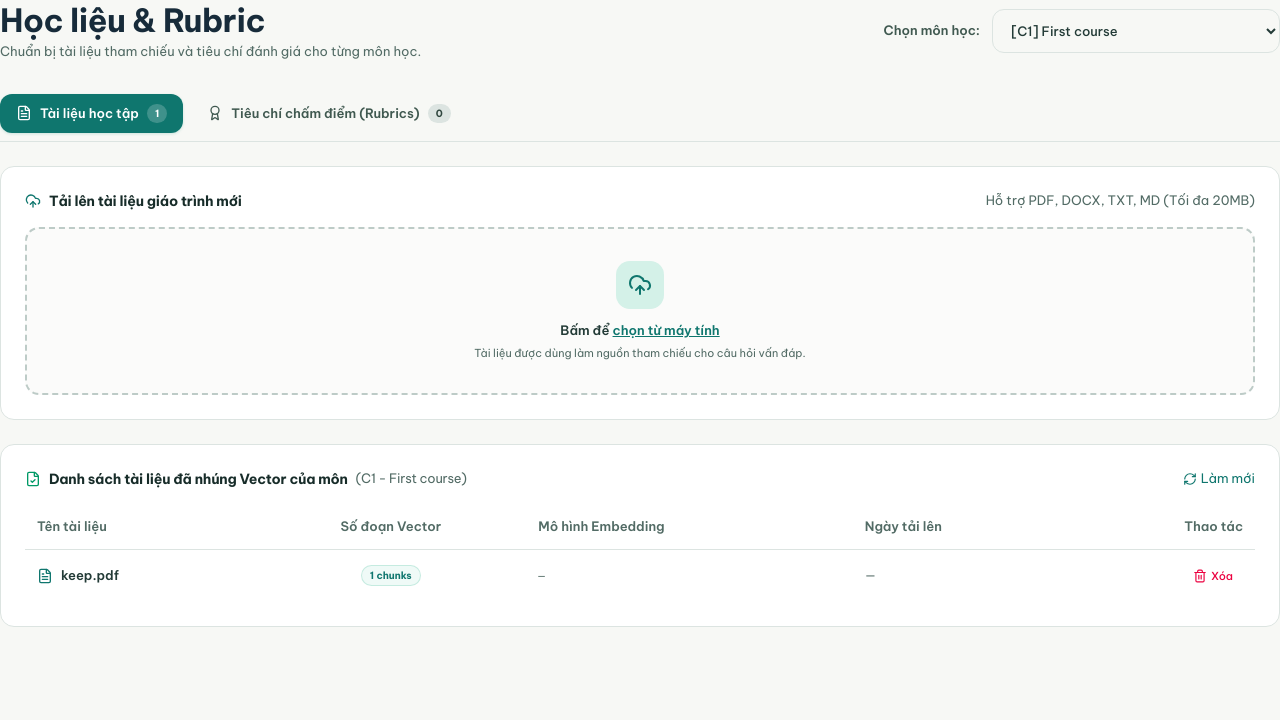
Test: materials exceptions › requires confirmation before deleting a document and retains it on API failure
The image size is (1280, 720).
expect the text "keep.pdf" is shown: met, box [61, 566, 119, 586]
Click the button "Xóa": (1213,576) [1183, 562, 1243, 590]
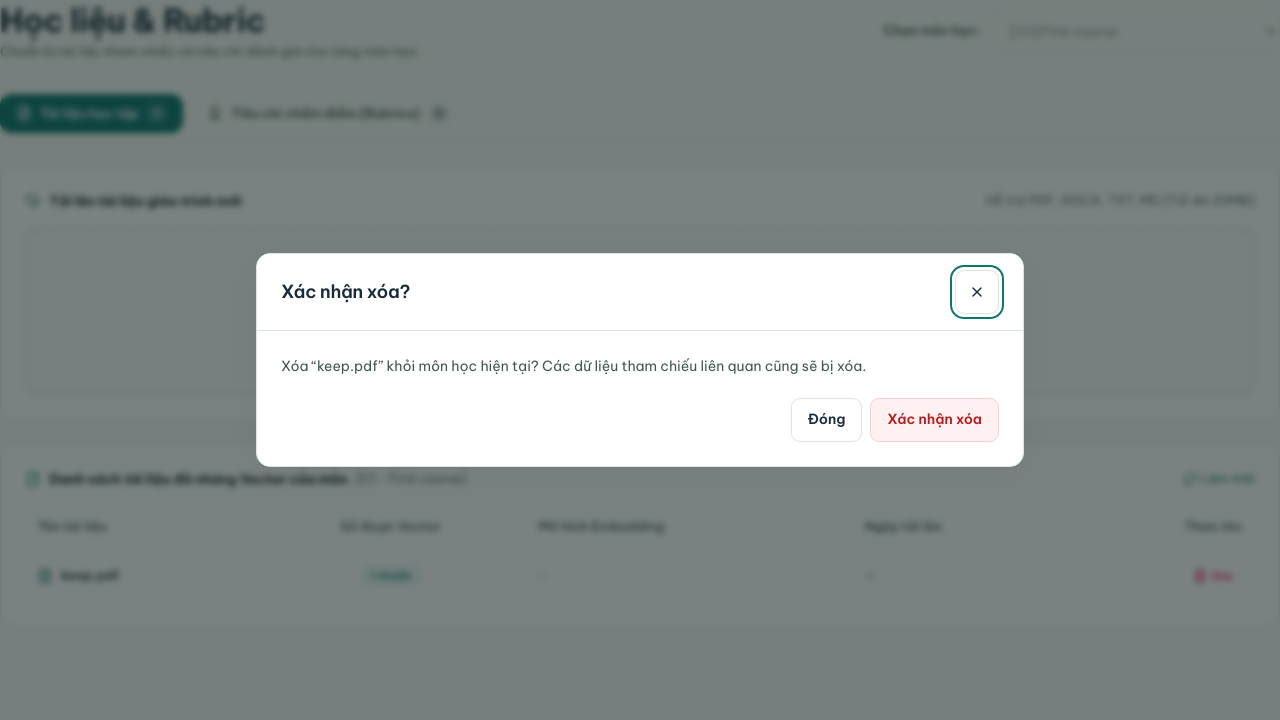
Click the button "Xác nhận xóa": (935,420) [870, 398, 999, 442]
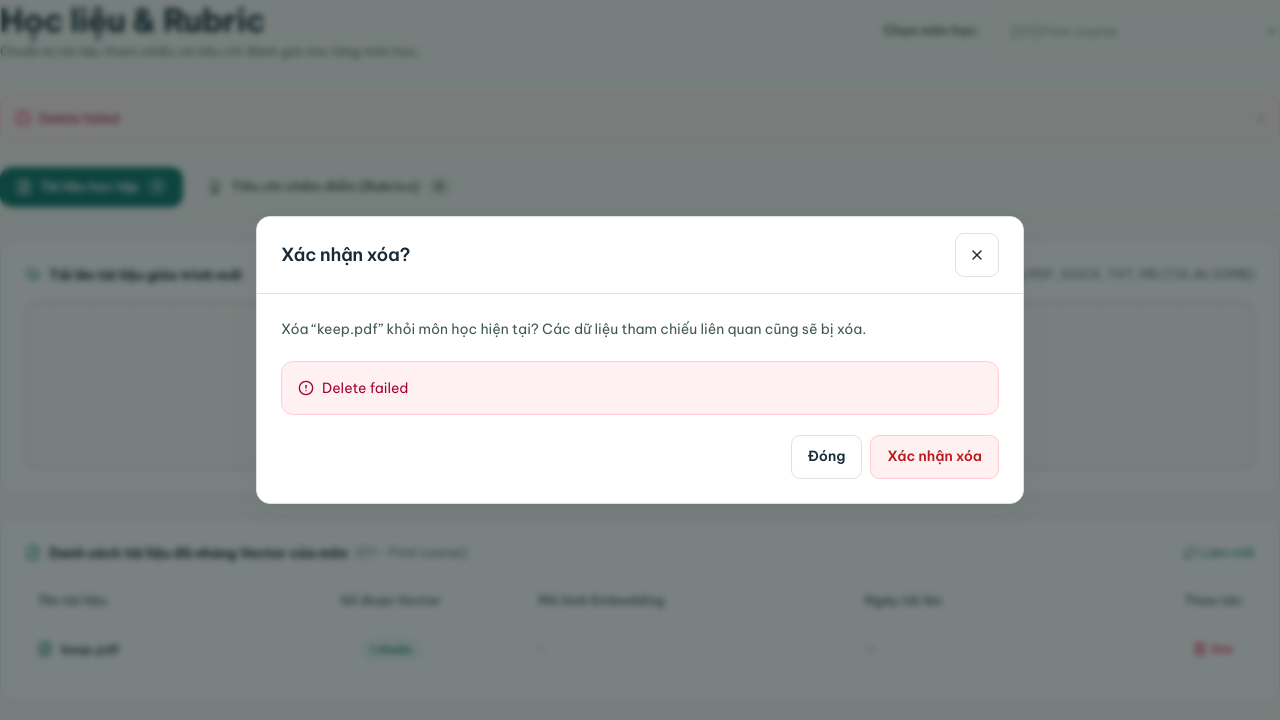
expect the text "keep.pdf" is shown: met, box [61, 640, 119, 659]
expect the message "Delete failed" is shown: met, box [281, 361, 999, 415]
